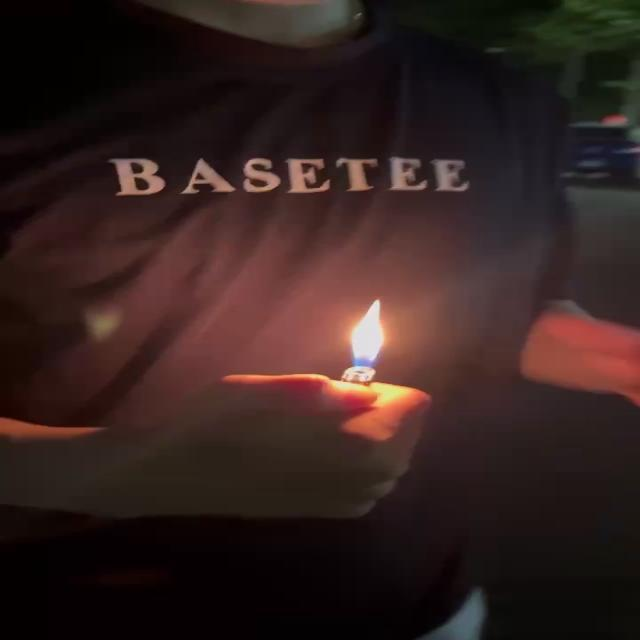Fire: (345, 294, 393, 369)
